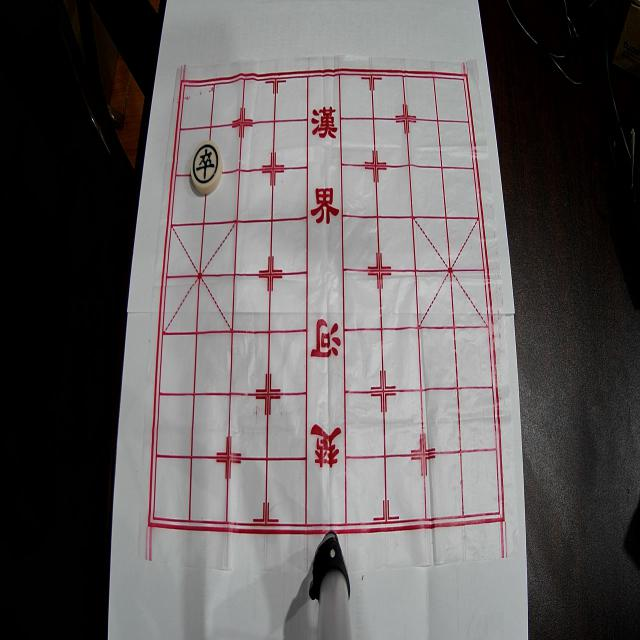black-soldier: (190, 140, 222, 194)
